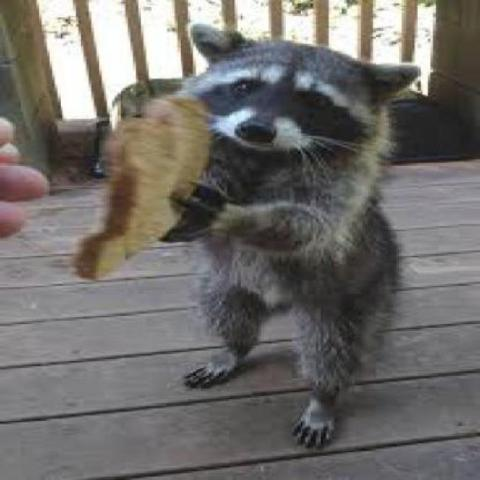small_animal: (150, 17, 421, 448)
